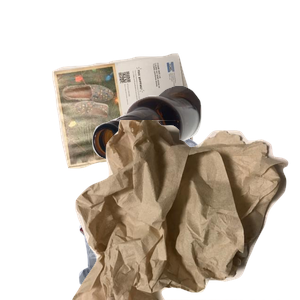glass: (90, 83, 300, 235)
paper: (49, 51, 235, 212)
plastic: (76, 131, 280, 300)
trash: (70, 120, 300, 300)
